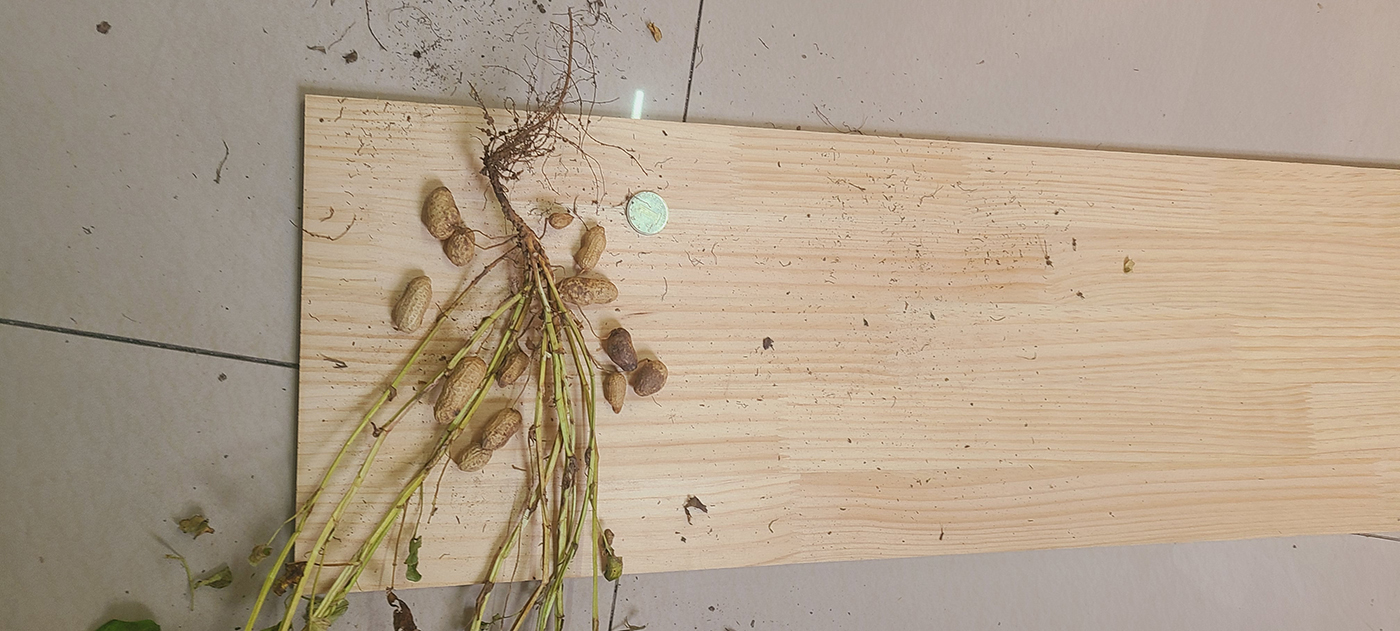h: (456, 408, 523, 472), (434, 355, 486, 425), (392, 275, 432, 333), (422, 185, 461, 240), (556, 277, 618, 308), (576, 225, 607, 272), (495, 349, 529, 388), (445, 229, 476, 265), (603, 373, 627, 416)
l: (605, 328, 638, 372), (634, 361, 668, 397)
